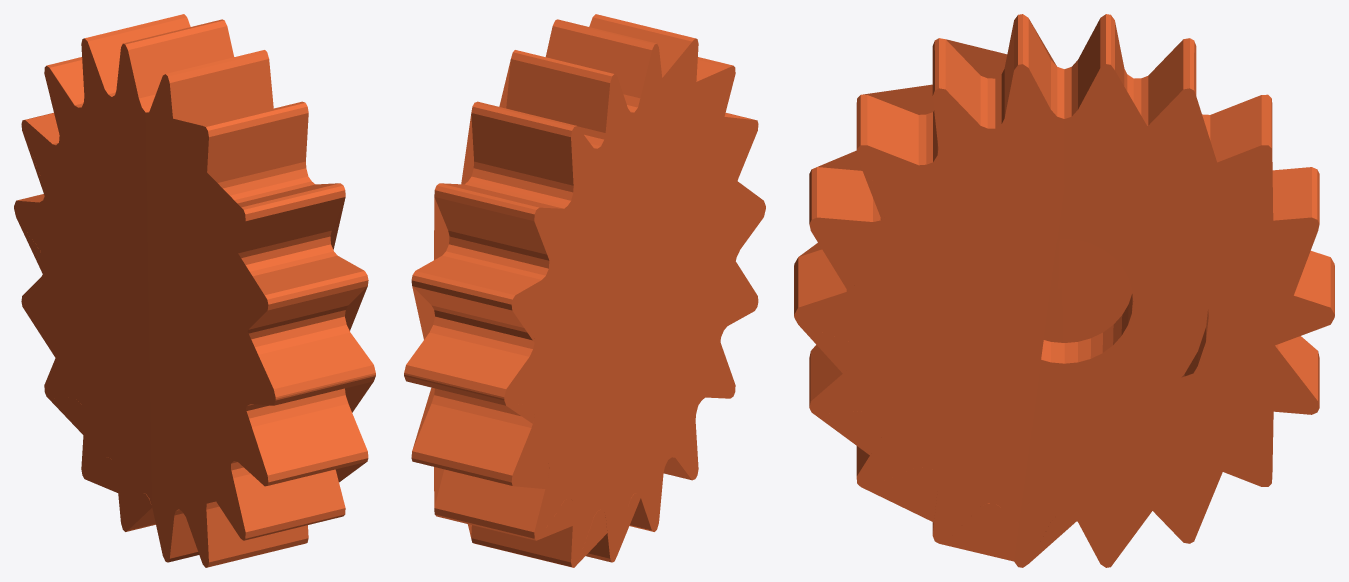
Rendered from roda.fbx.
3 views of the same model, side by side, from view 1: azimuth 30°, elevation 25°; view 2: azimuth 150°, elevation 25°; view 3: azimuth 270°, elevation 25° (orthographic). The views are drawn at different scales.
Visible parts, largest first — view 1: roda; view 2: roda; view 3: roda.
Part boxes in pixels (bbox=[...]): roda: bbox=[14, 14, 375, 567]; roda: bbox=[404, 14, 765, 567]; roda: bbox=[794, 14, 1334, 567].
Size of the model in its own units: 73.28 by 341 by 331.
